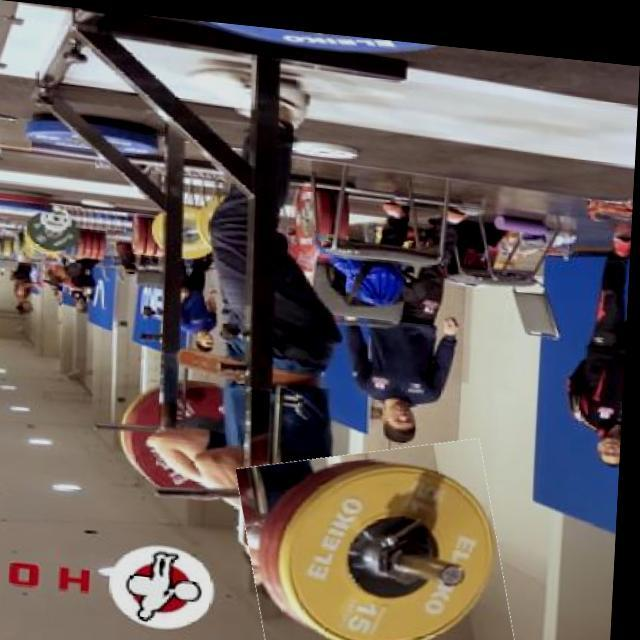barbell: (244, 423, 520, 640)
